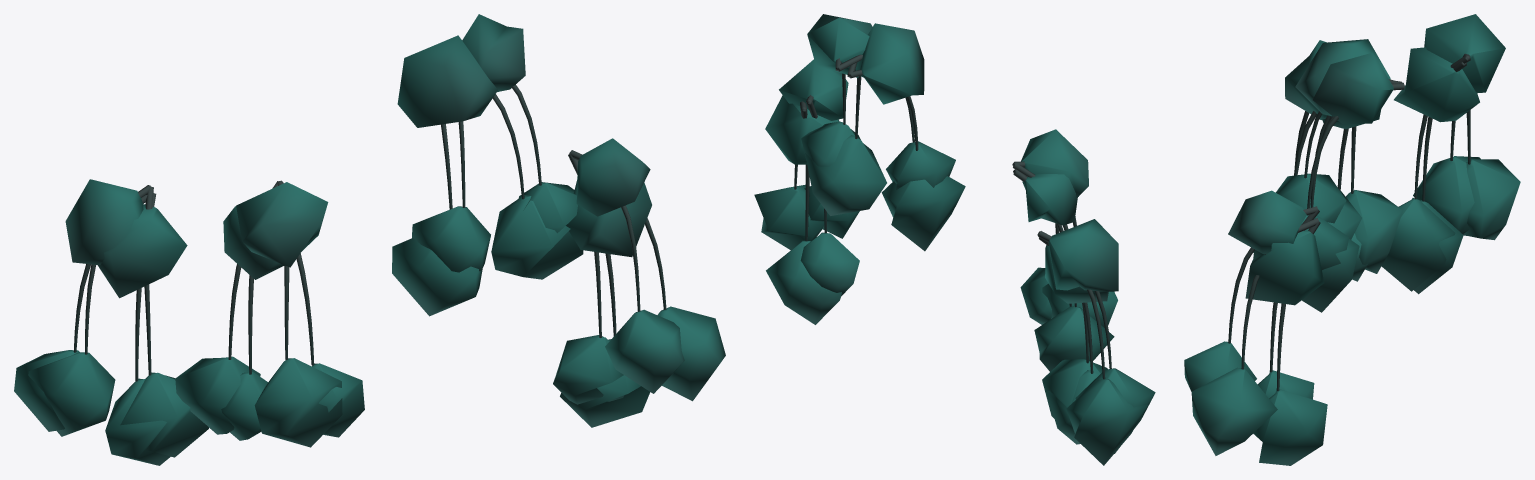
3 views of the same model, side by side, from view 1: azimuth 30°, elevation 25°; view 2: azimuth 150°, elevation 25°; view 3: azimuth 270°, elevation 25° (orthographic). The views are drawn at different scales.
Parts seen in each view (by area): view 1: fruit.005; view 2: fruit.005; view 3: fruit.005.
Part boxes in pixels (left/top/right/bottom): fruit.005: left=14, top=14, right=725, bottom=465; fruit.005: left=754, top=14, right=1155, bottom=465; fruit.005: left=1184, top=14, right=1520, bottom=465.
Size of the model in its own units: 0.5 by 0.3389 by 0.2713.
